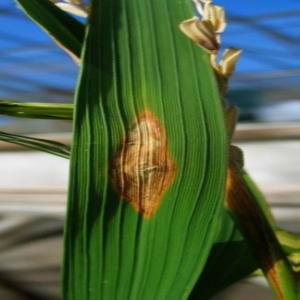1 RiceBlast: (105, 99, 189, 246)
